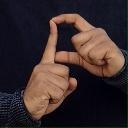hand: (22, 19, 77, 121), (49, 12, 125, 78)
